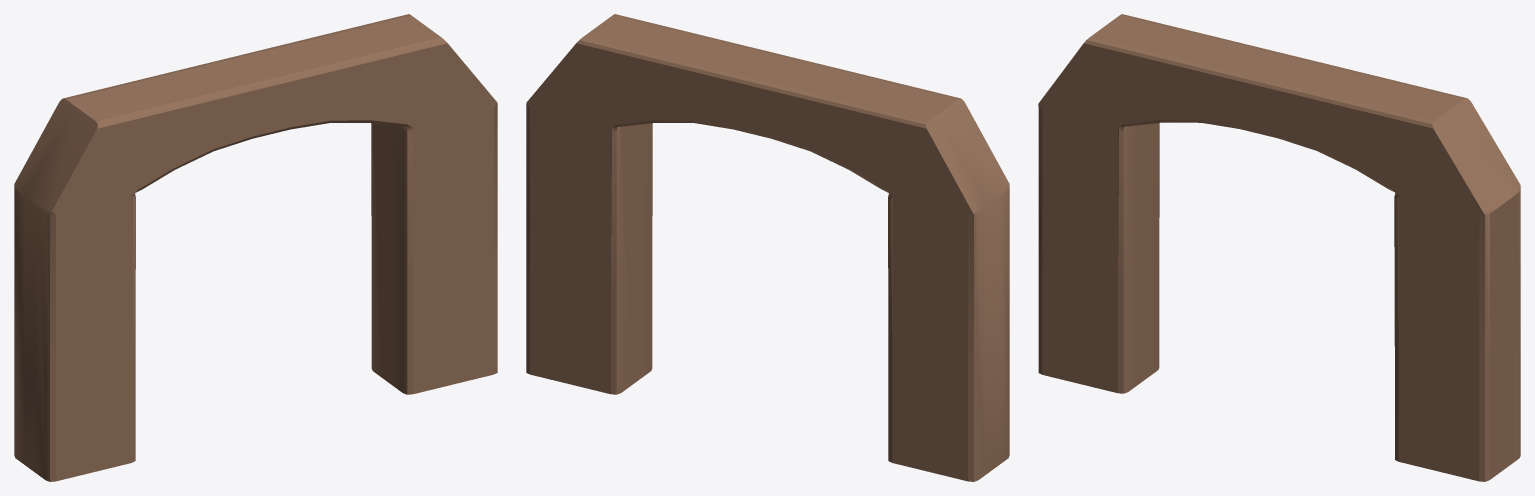
The model's file is Ruins 3.fbx.
3 views of the same model, side by side, from view 1: azimuth 30°, elevation 25°; view 2: azimuth 150°, elevation 25°; view 3: azimuth 330°, elevation 25° (orthographic).
Visible parts, largest first — view 1: Ruins 3; view 2: Ruins 3; view 3: Ruins 3.
Boxes of the visible parts, x1,y1,x2,y2 form: Ruins 3: (14, 14, 497, 481); Ruins 3: (526, 14, 1009, 481); Ruins 3: (1038, 14, 1520, 481).
Bounding box in the file's own units: 69.37 × 50.94 × 10.12.
1 material, 1 textured.
